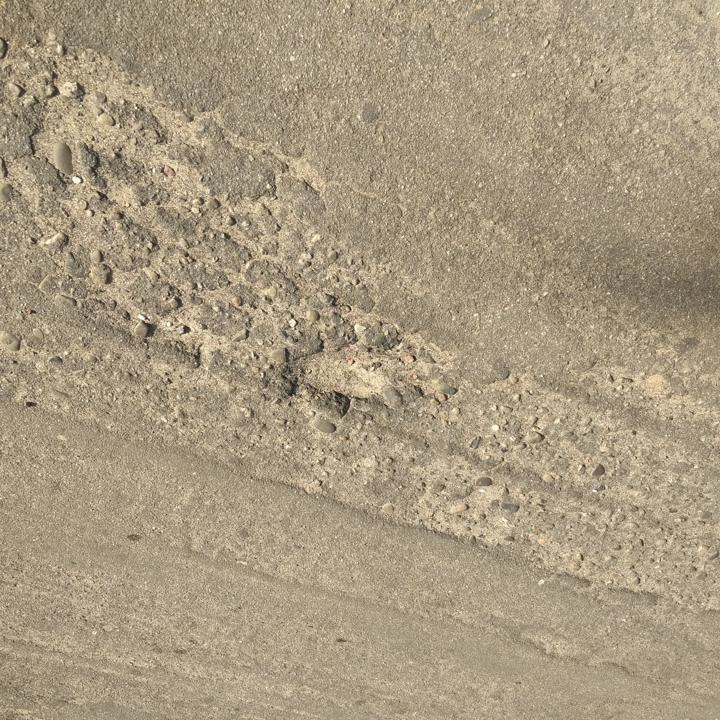pothole: (281, 351, 396, 408)
